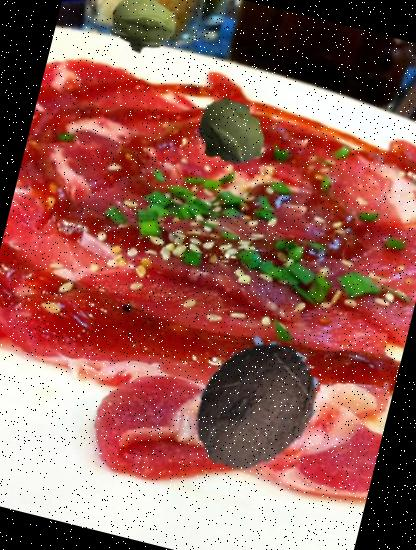Cocos: (171, 322, 338, 490)
Kohlrabi: (186, 88, 278, 180), (103, 0, 184, 63)
